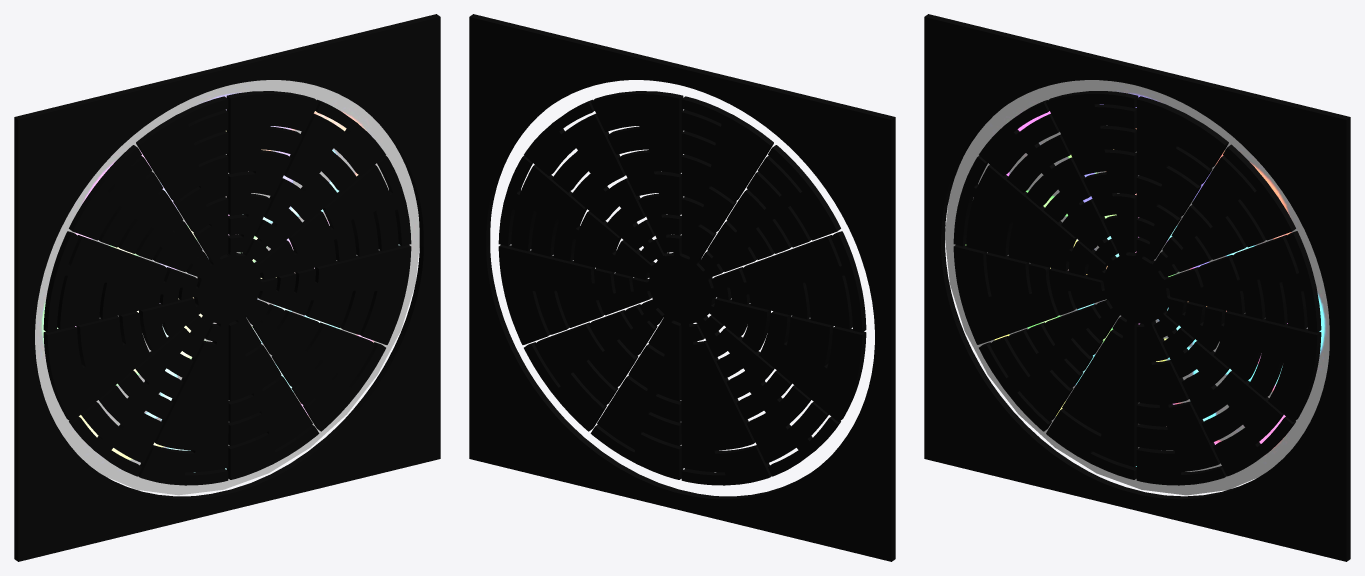
File: signs.glb
The picture shows the model from 3 angles, left to right: view 1: azimuth 30°, elevation 25°; view 2: azimuth 150°, elevation 25°; view 3: azimuth 330°, elevation 25°; orthographic projection.
Visible parts, largest first — view 1: OpenSCAD_Model, Circle001; view 2: OpenSCAD_Model; view 3: OpenSCAD_Model, Circle001.
Boxes of the visible parts, x1,y1,x2,y2 form: OpenSCAD_Model: [14, 14, 440, 561]; Circle001: [35, 80, 419, 495]; OpenSCAD_Model: [469, 14, 895, 561]; OpenSCAD_Model: [924, 14, 1350, 561]; Circle001: [945, 80, 1329, 495].
Size of the model in its own units: 20 by 20 by 0.4872.
2 materials, 1 textured.
